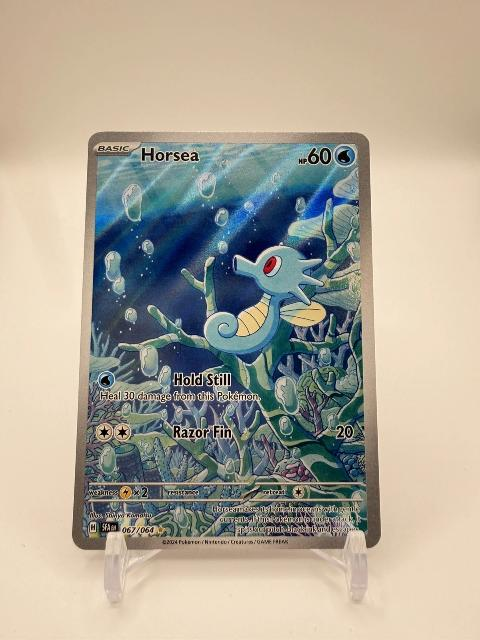Card: (66, 125, 386, 554)
Name: (135, 144, 202, 168)
